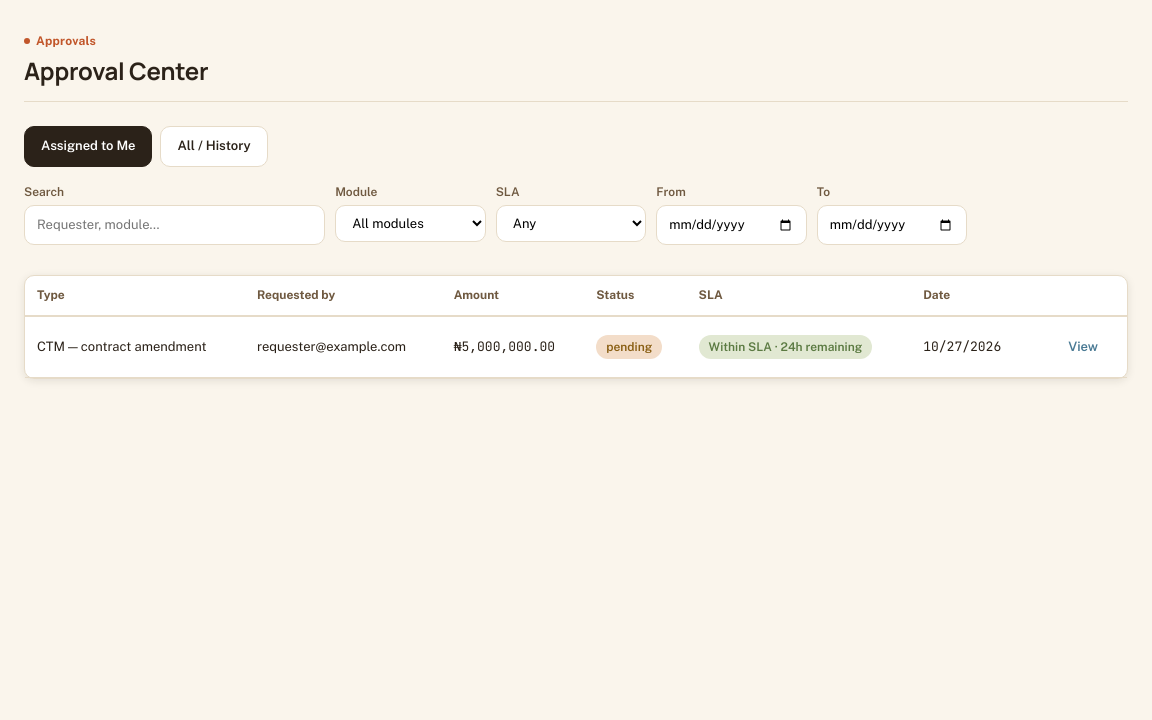
it: ApprovalCenterPage › escalation › shows the server's reason when escalation is refused
The image size is (1152, 720).
Expected: the text "requester@example.com" is shown, [245, 316, 442, 378]
What coordinates should you click on to do the following:
click the button "View"
I would click on:
 (1083, 347)
Its box is [1051, 327, 1115, 367].
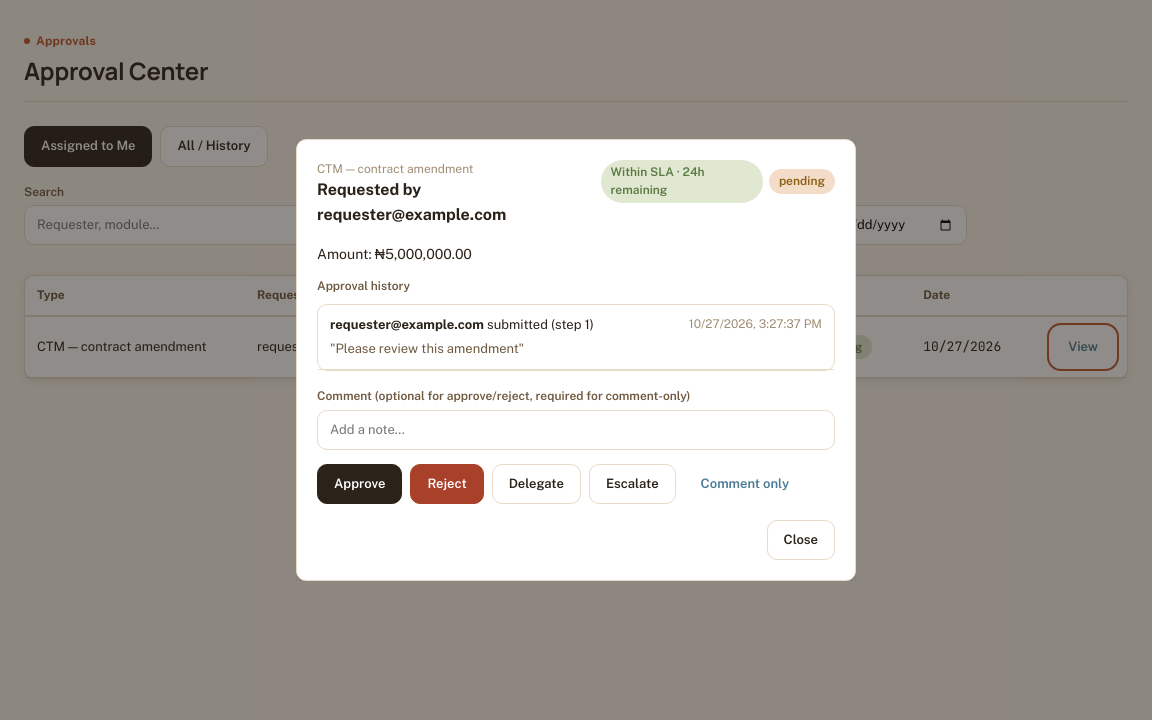
Now the button "Approve" is shown, box [317, 464, 402, 504]
What coordinates should you click on to do the following:
click the button "Escalate"
I would click on:
 (632, 484)
Its box is [589, 464, 676, 504].
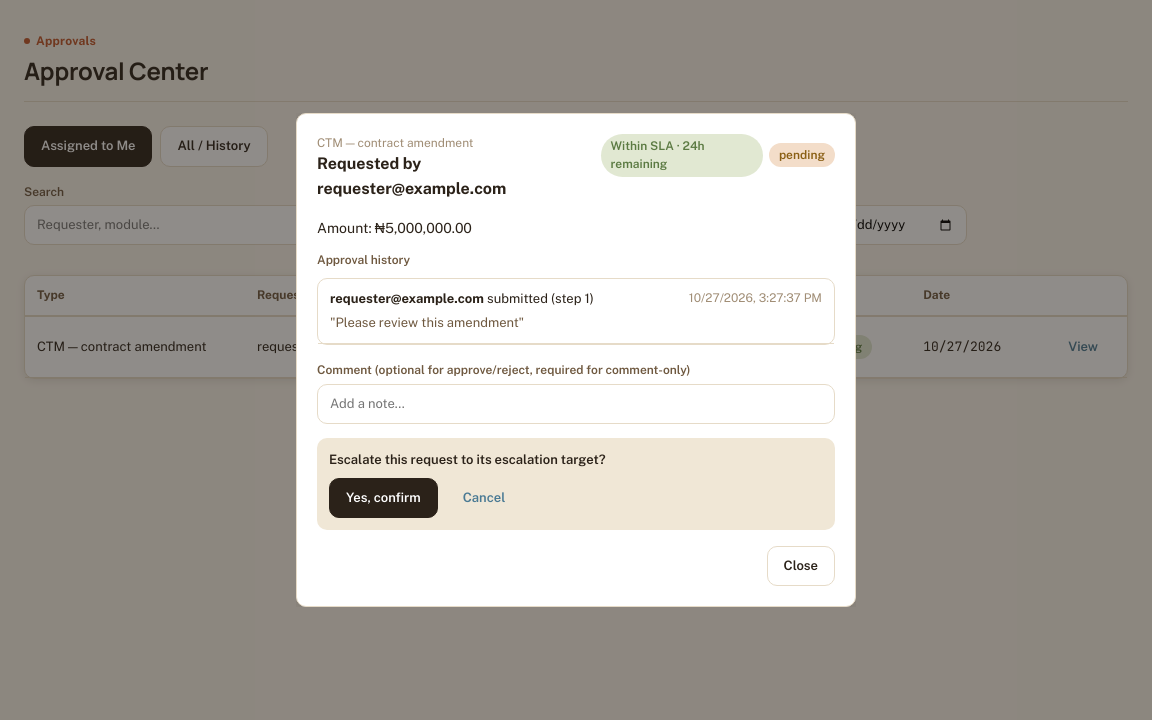
What coordinates should you click on to do the following:
click the button "Yes, confirm"
I would click on:
 (383, 498)
Its box is [329, 478, 438, 518].
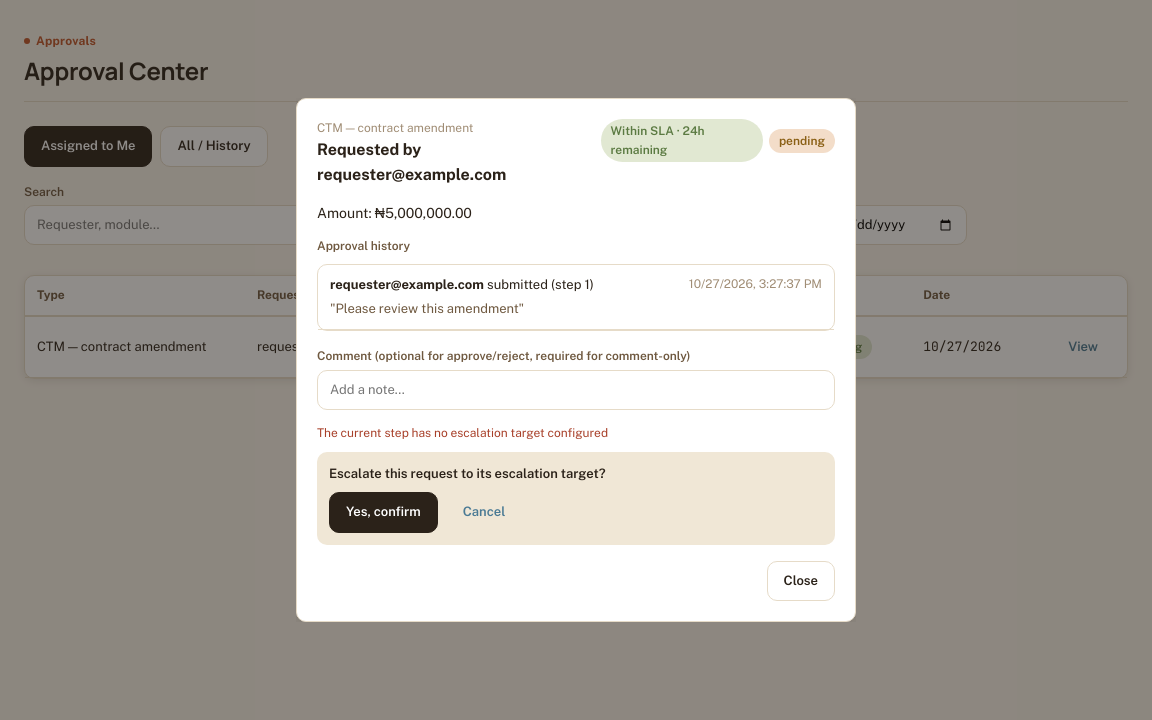
Now the text "The current step has no escalation target configured" is shown, box [317, 426, 608, 440]
